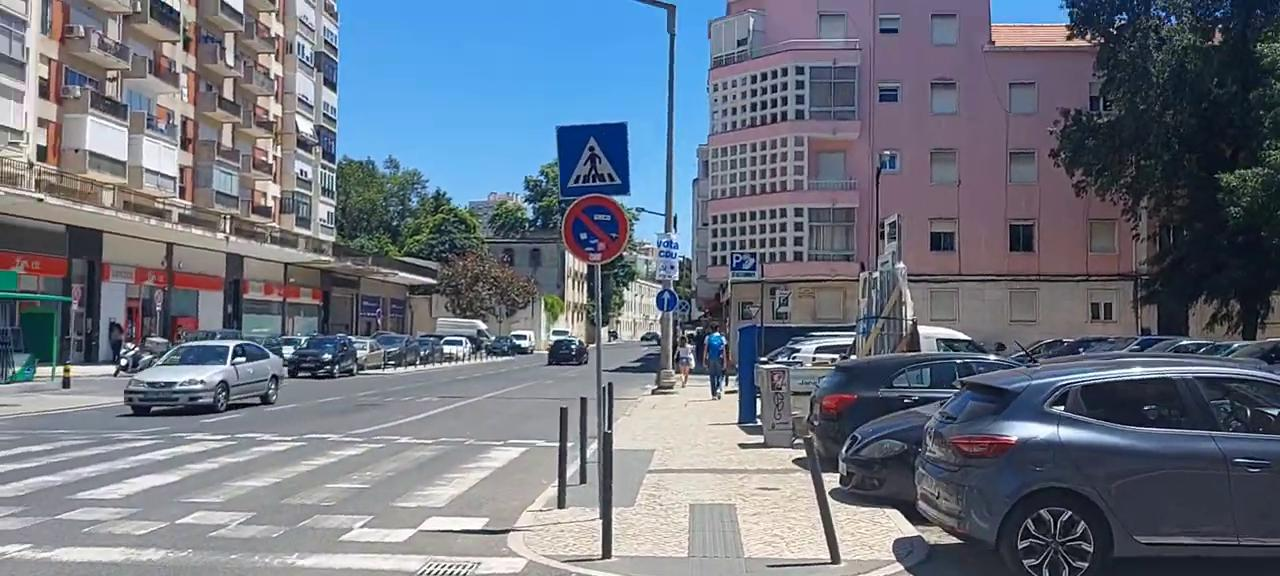estacionamento proibido: (555, 193, 638, 272)
passagem para peoes: (555, 118, 636, 201)
